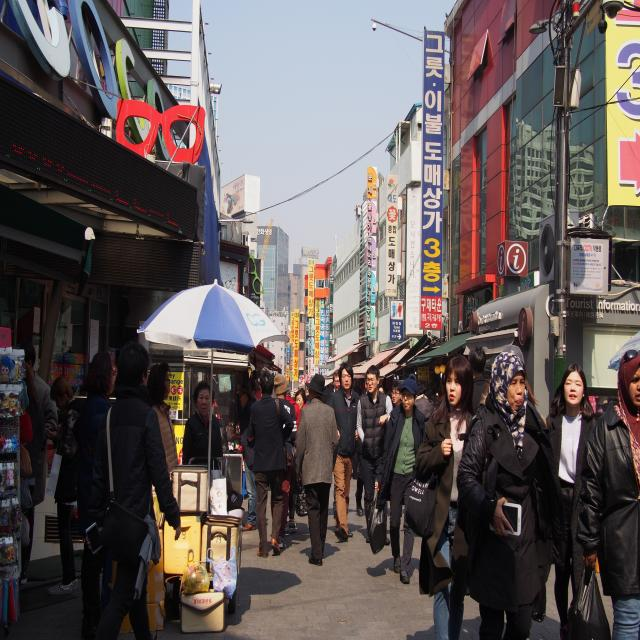body: (454, 350, 567, 640), (83, 340, 183, 640), (228, 515, 427, 631), (531, 361, 599, 640), (579, 350, 640, 640), (414, 355, 474, 640), (71, 352, 120, 640), (374, 377, 428, 584), (16, 341, 58, 585), (246, 370, 295, 558), (44, 375, 85, 595), (294, 372, 339, 566), (525, 368, 554, 624), (355, 364, 394, 546), (21, 360, 51, 585), (325, 361, 361, 541), (270, 374, 298, 547), (182, 380, 224, 471), (378, 364, 440, 425), (235, 381, 258, 531), (148, 363, 179, 472), (284, 378, 300, 536), (467, 346, 489, 415), (321, 368, 342, 404), (294, 388, 308, 409), (363, 380, 369, 396)
